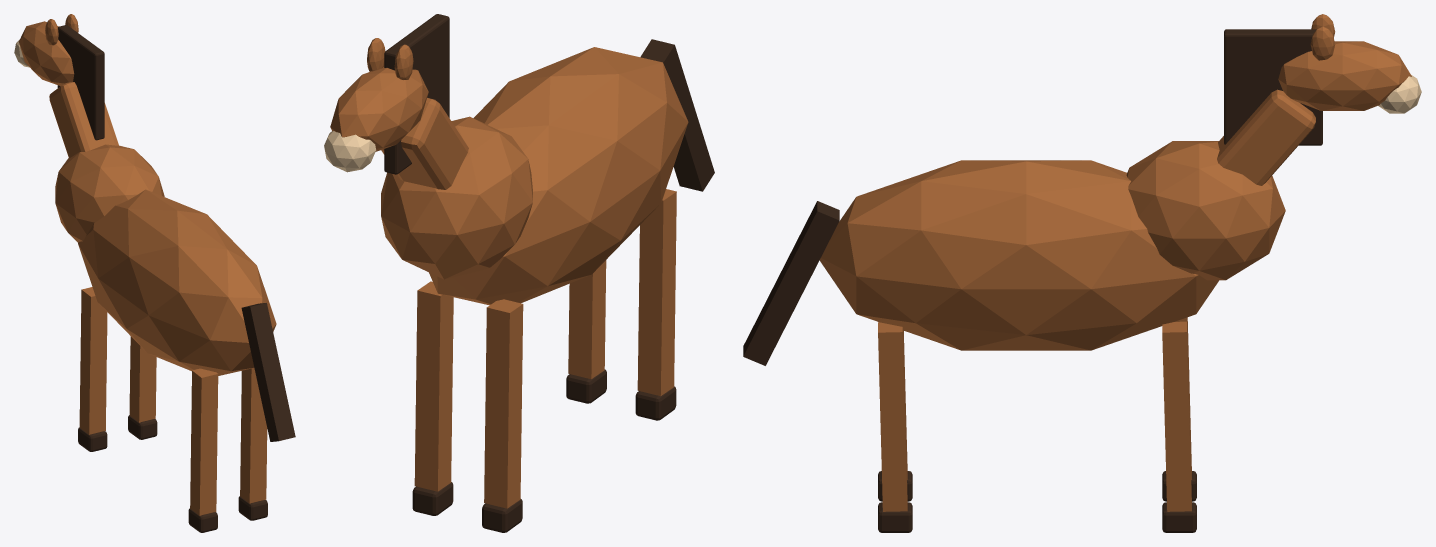
The model's file is Horse_Horse.fbx.
The picture shows the model from 3 angles, left to right: view 1: azimuth 30°, elevation 25°; view 2: azimuth 150°, elevation 25°; view 3: azimuth 270°, elevation 25°; orthographic projection. The views are drawn at different scales.
Visible parts, largest first — view 1: Horse; view 2: Horse; view 3: Horse.
Boxes of the visible parts, x1=… form: Horse: x1=14, y1=14, x2=295, y2=532; Horse: x1=324, y1=14, x2=714, y2=532; Horse: x1=743, y1=14, x2=1421, y2=532.
Bounding box in the file's own units: 0.6467 × 2.2 × 2.75.
